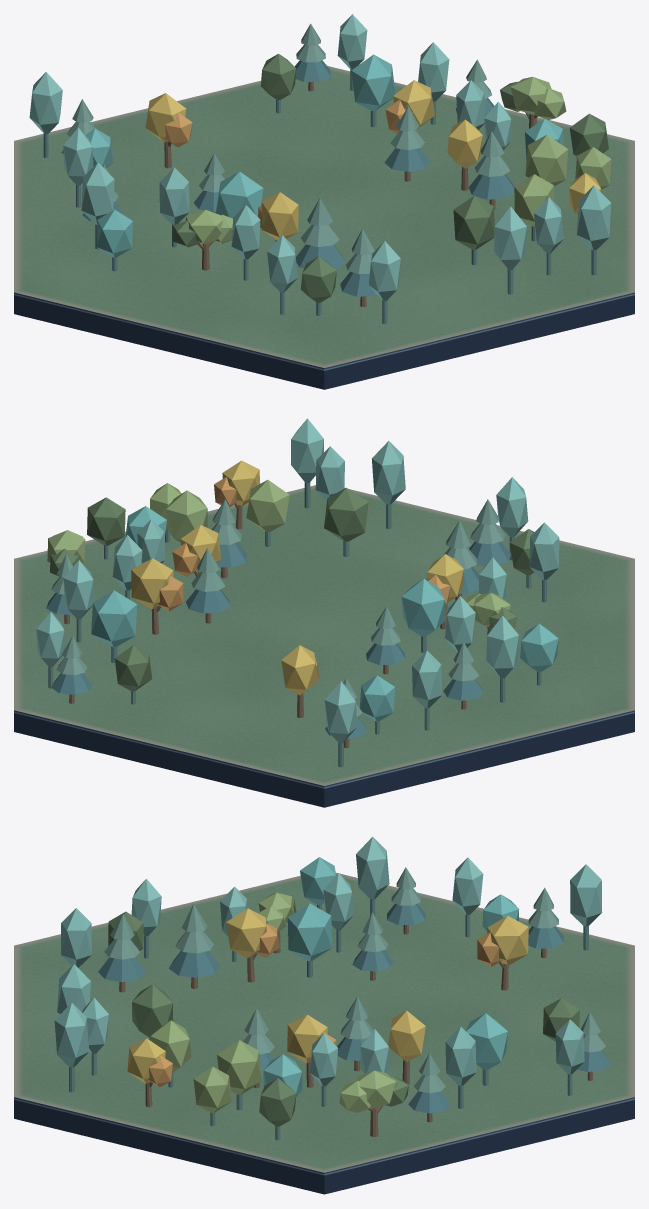
3 views of the same model, one above another, from view 1: azimuth 30°, elevation 25°; view 2: azimuth 150°, elevation 25°; view 3: azimuth 270°, elevation 25° (orthographic).
Parts seen in each view (by area): view 1: Forest terrain, Forest foliage; view 2: Forest terrain, Forest foliage; view 3: Forest terrain, Forest foliage.
Part boxes in pixels (x1,y1,x2,y2): Forest terrain: [14, 66, 634, 389]; Forest foliage: [29, 14, 611, 323]; Forest terrain: [14, 485, 634, 807]; Forest foliage: [36, 418, 559, 767]; Forest terrain: [14, 872, 634, 1194]; Forest foliage: [54, 836, 610, 1140].
Bounding box in the file's own units: 36 × 6.12 × 31.18.
2 materials, 2 textured.
